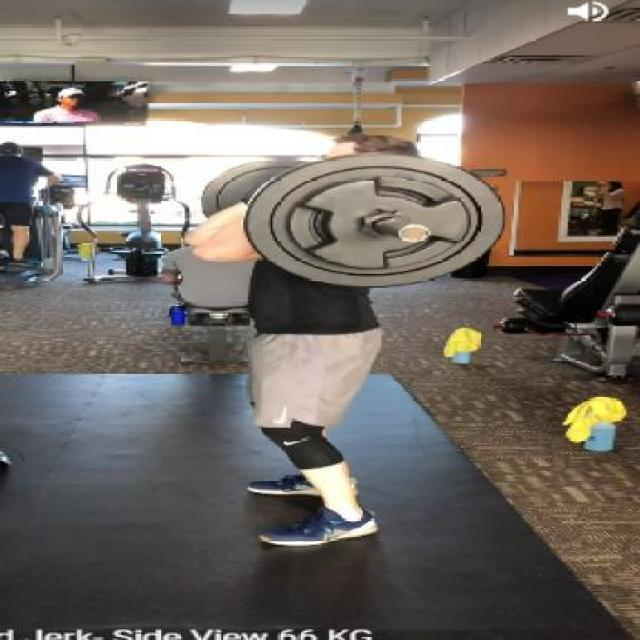Barbell: (383, 222, 440, 247)
